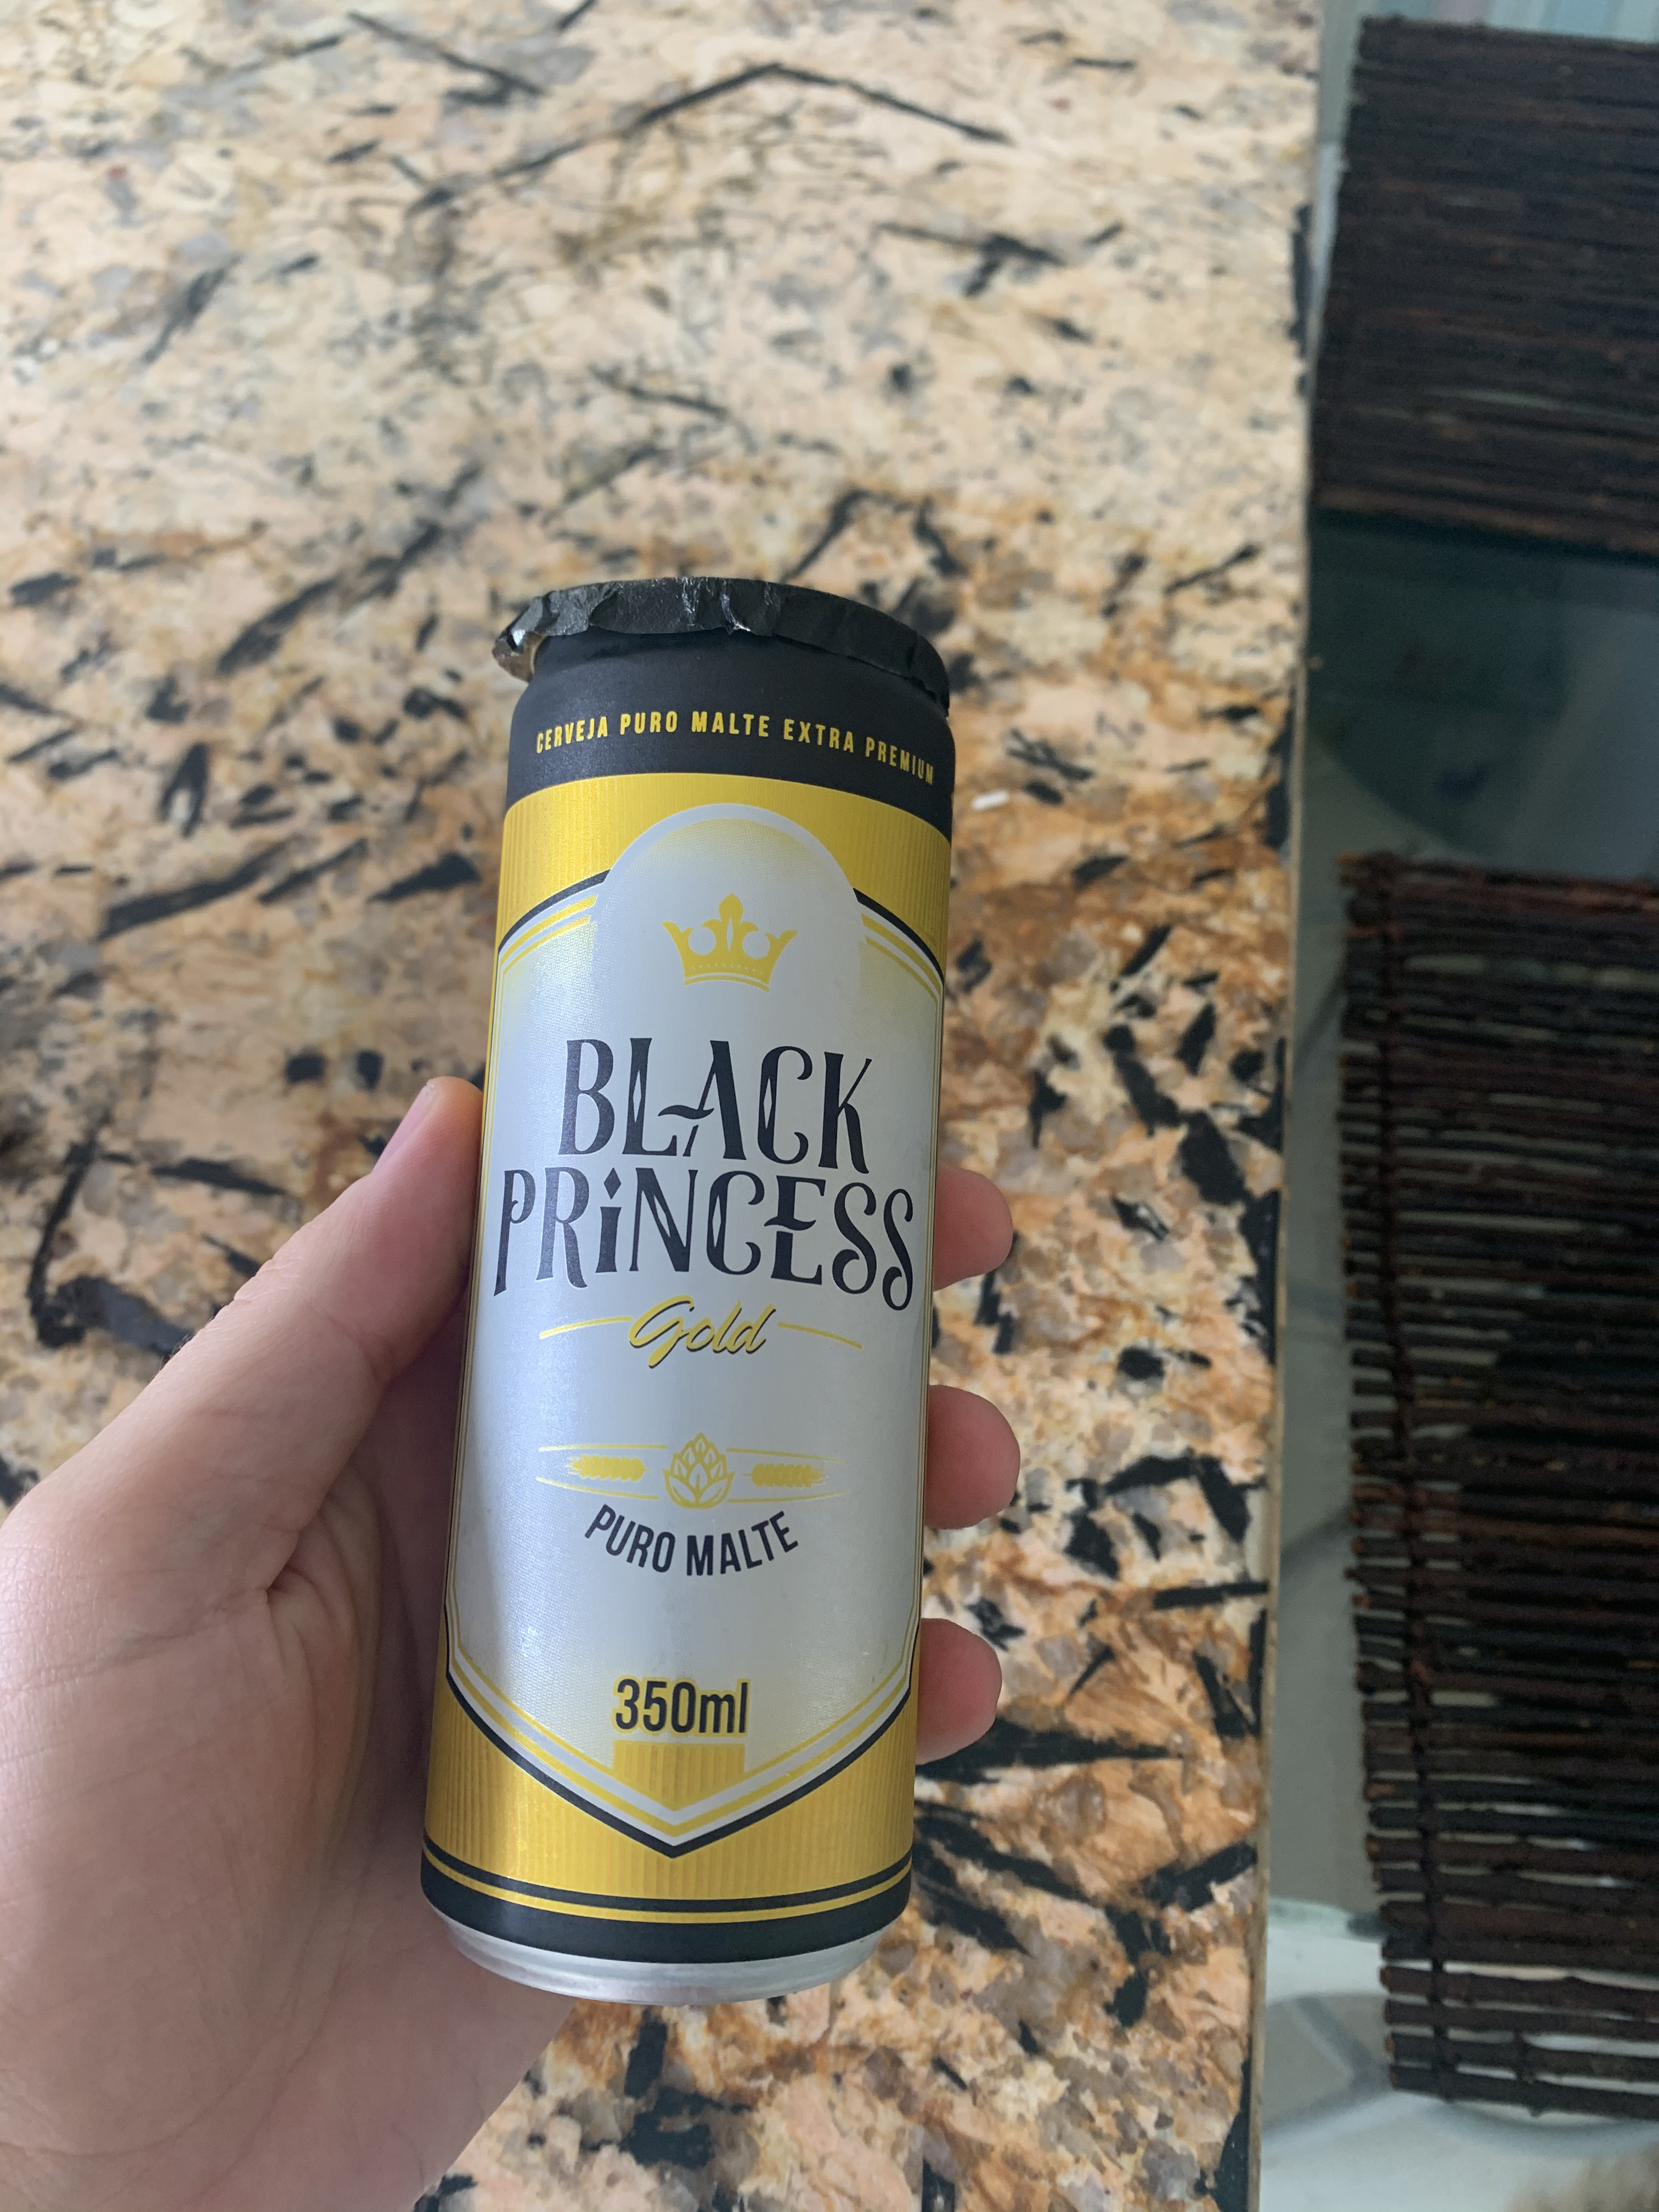blackprincess: (396, 507, 992, 2057)
